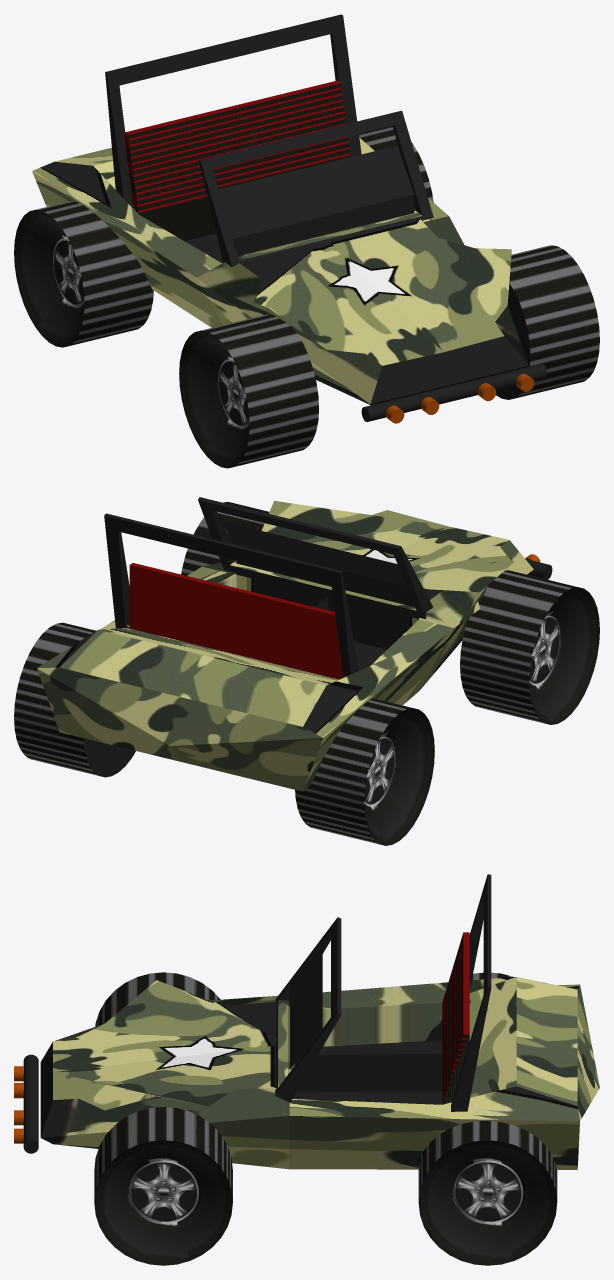
The model's file is geep.obj.
The picture shows the model from 3 angles, top to bottom: view 1: azimuth 30°, elevation 25°; view 2: azimuth 150°, elevation 25°; view 3: azimuth 270°, elevation 25°; orthographic projection.
Visible parts, largest first — view 1: Cube, Cube.001, Cube.002; view 2: Cube, Cube.001, Cube.002; view 3: Cube, Cube.002, Cube.001.
Boxes of the visible parts, bbox=[...] form: Cube: bbox=[14, 80, 599, 468]; Cube.001: bbox=[105, 14, 361, 207]; Cube.002: bbox=[198, 110, 433, 266]; Cube: bbox=[14, 501, 599, 845]; Cube.001: bbox=[104, 513, 358, 677]; Cube.002: bbox=[198, 497, 432, 619]; Cube: bbox=[14, 932, 599, 1265]; Cube.002: bbox=[275, 917, 341, 1102]; Cube.001: bbox=[451, 874, 491, 1111].
Size of the model in its own units: 5.73 by 4 by 8.46.
1 material, 1 textured.
